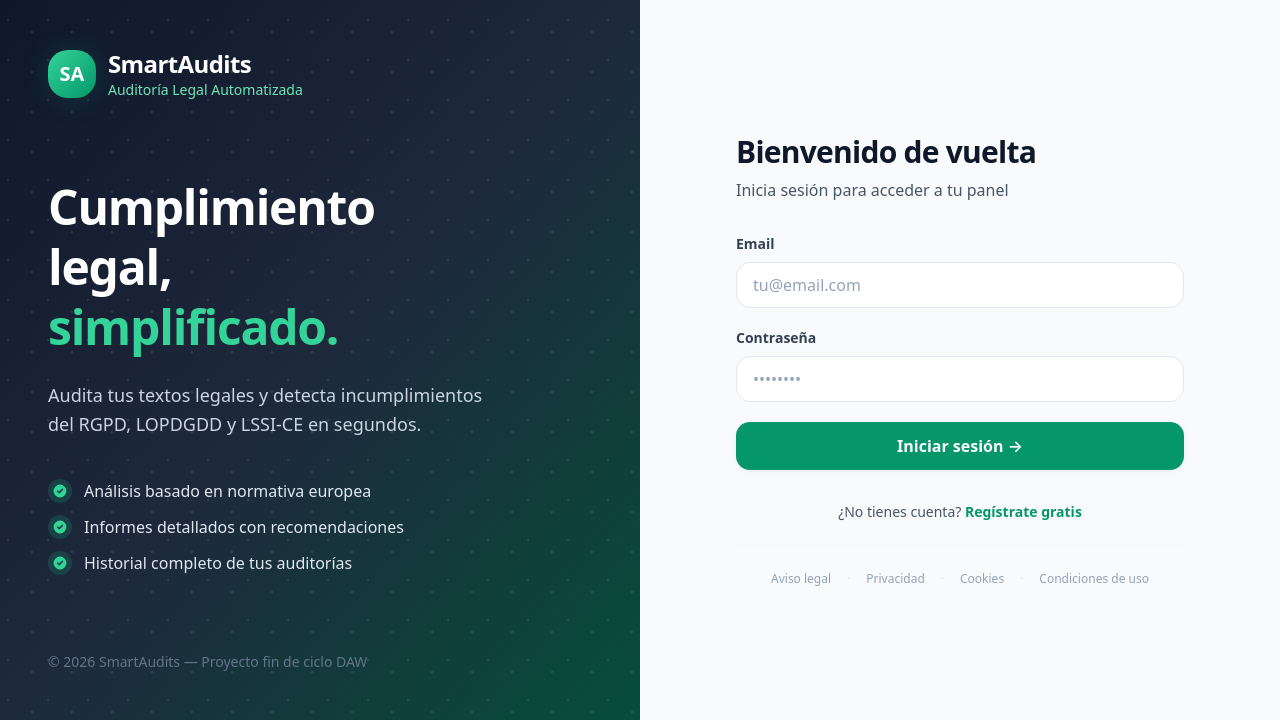
Scenario: Login with real AuthProvider › shows rejected credentials without creating a session and leaves the form usable
In the field labelled "Email": x=960, y=284 top-left (736, 262), bottom-right (1184, 308), type "test@example.invalid"
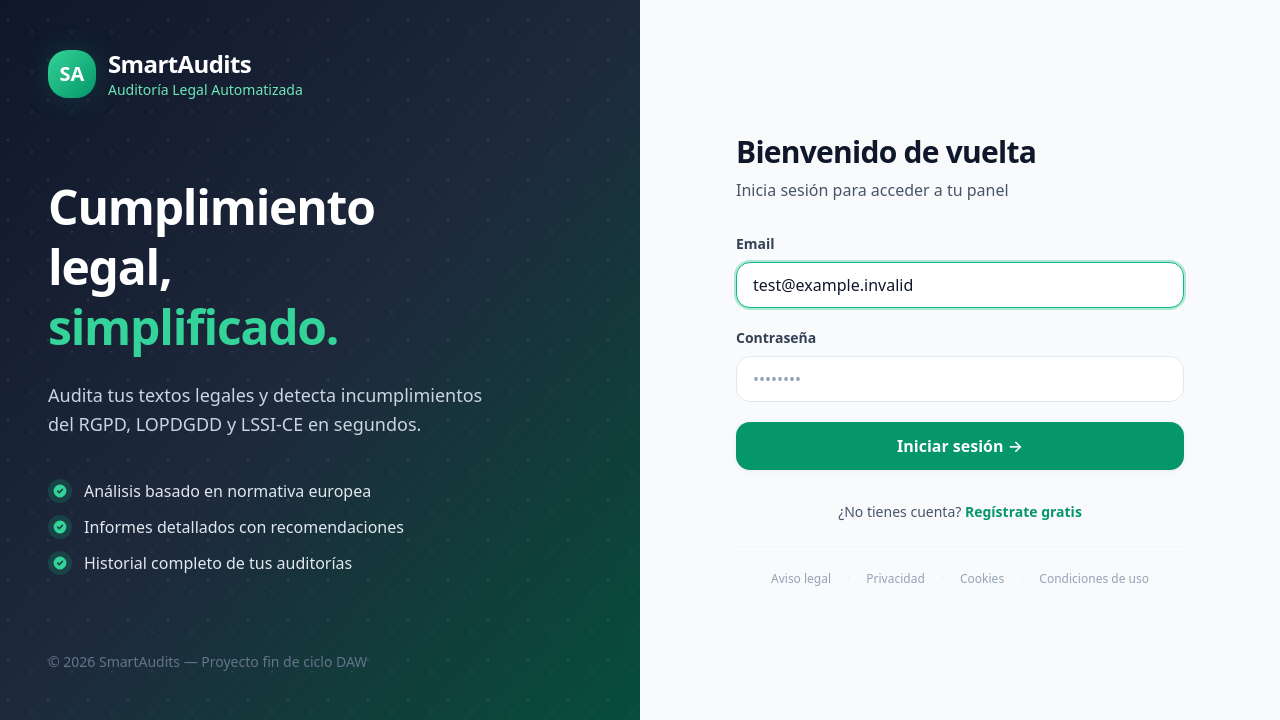
In the password field labelled "Contraseña": x=960, y=378 top-left (736, 356), bottom-right (1184, 402), type "synthetic-password"
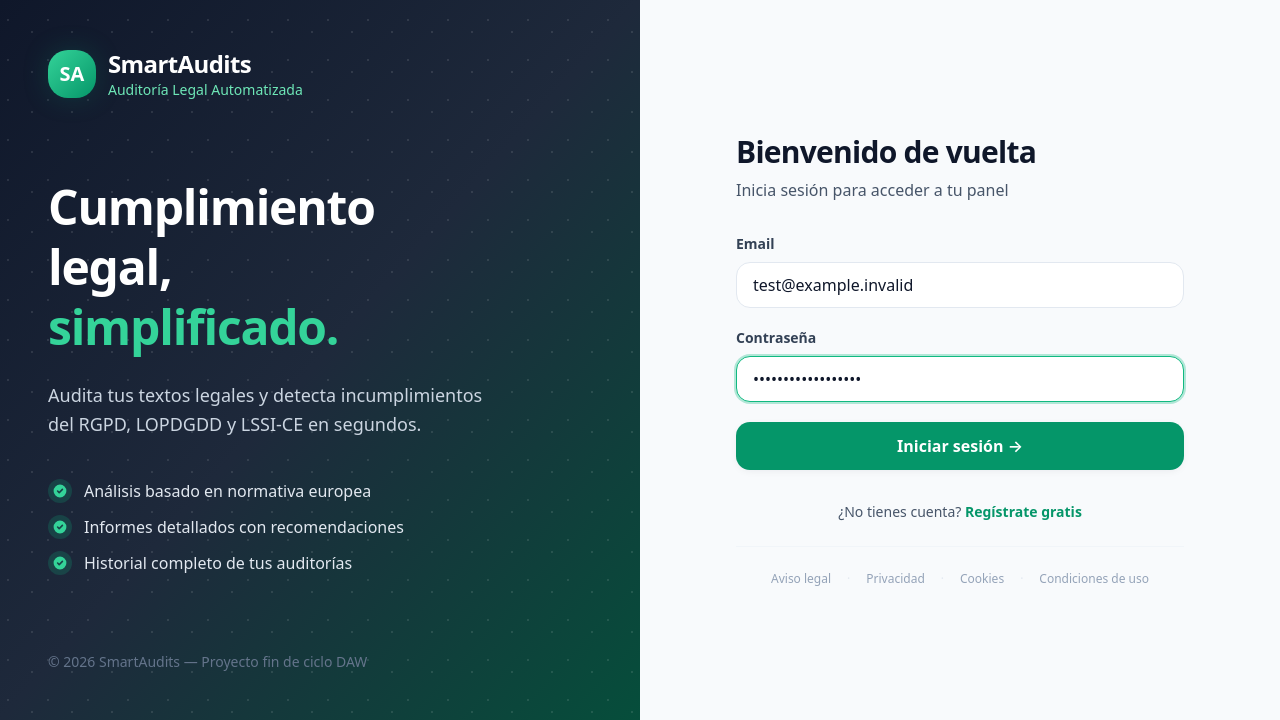
Click the button "Iniciar sesión →": x=960, y=446 top-left (736, 422), bottom-right (1184, 470)
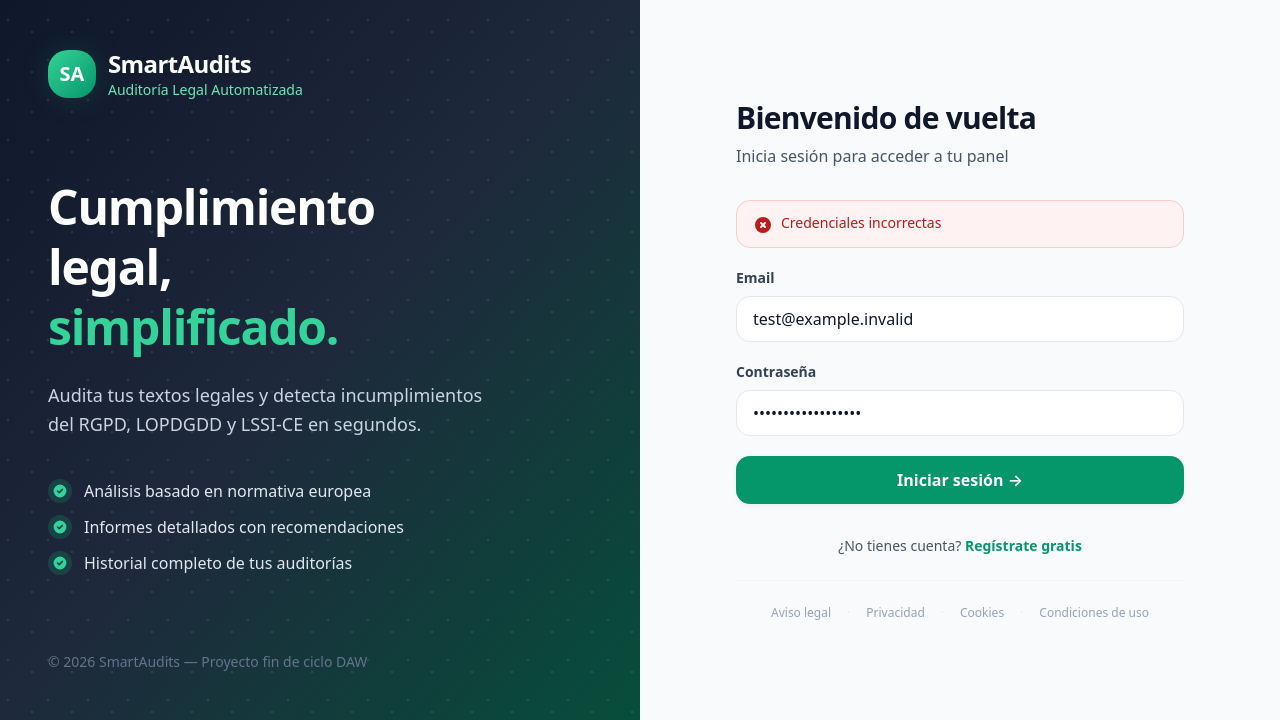
expect the button "Iniciar sesión →" is enabled: met, box top-left (736, 456), bottom-right (1184, 504)
expect the text "Credenciales incorrectas" is shown: met, box top-left (781, 212), bottom-right (941, 232)
